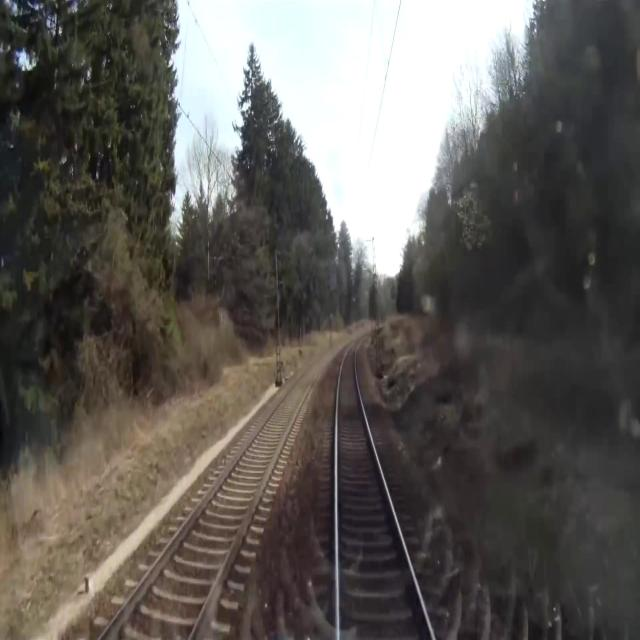rail-track: (103, 352, 332, 639), (338, 340, 431, 639)
